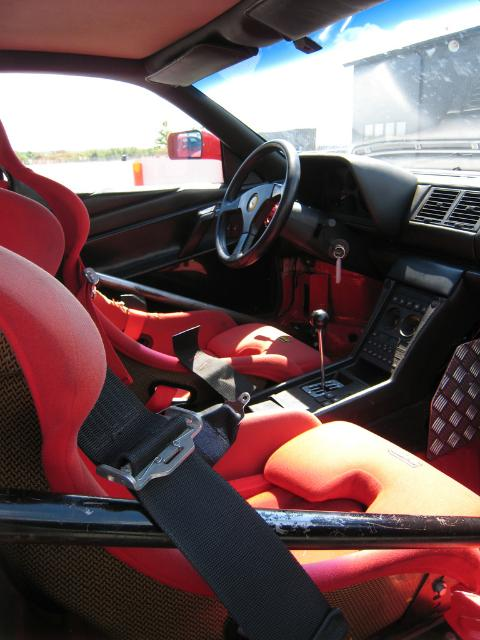Seatbelt: (78, 368, 354, 640)
